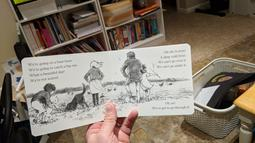text block: (24, 58, 78, 82), (151, 48, 189, 71), (149, 100, 192, 113)
